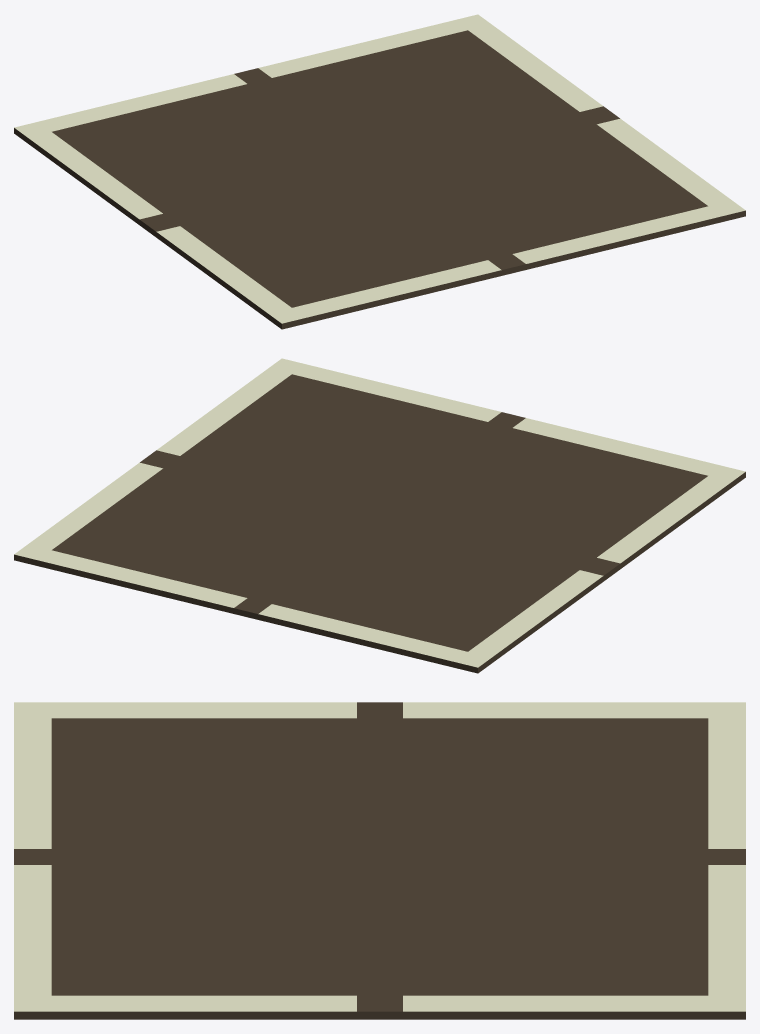
Rendered from floorPaintedBox.fbx.
3 renders of one model, top to bottom at view 1: azimuth 30°, elevation 25°; view 2: azimuth 150°, elevation 25°; view 3: azimuth 270°, elevation 25°, orthographic. The views are drawn at different scales.
Visible parts, largest first — view 1: Floor Painted Box; view 2: Floor Painted Box; view 3: Floor Painted Box.
Part boxes in pixels (left/top/right/bottom): Floor Painted Box: left=14, top=14, right=745, bottom=329; Floor Painted Box: left=14, top=358, right=745, bottom=673; Floor Painted Box: left=14, top=702, right=745, bottom=1019.
Size of the model in its own units: 200 by 200 by 2.42.
